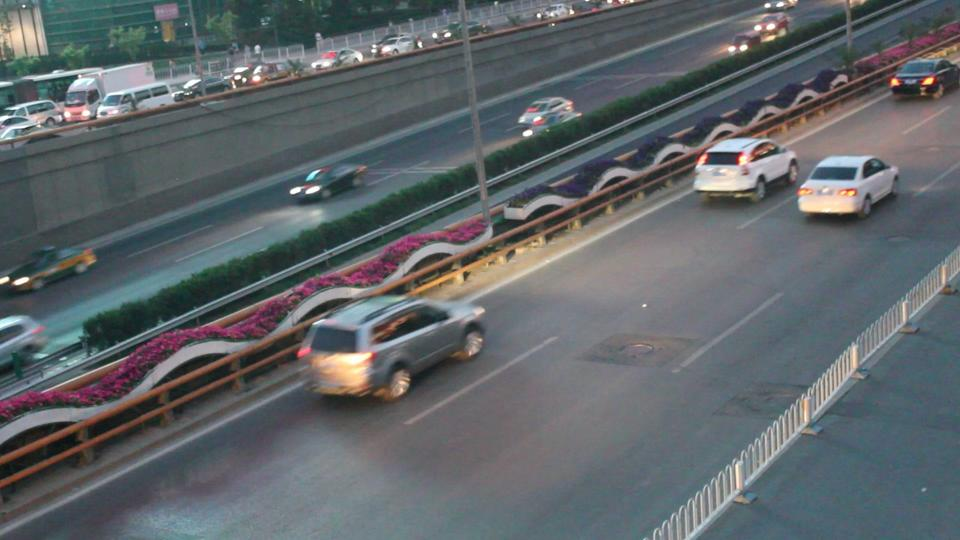bus: (0, 68, 104, 112)
car: (298, 295, 488, 403), (692, 136, 801, 204), (796, 155, 899, 220), (0, 245, 99, 295), (288, 163, 369, 205), (94, 81, 179, 118), (0, 314, 49, 375), (888, 58, 959, 100), (516, 97, 582, 137), (0, 90, 65, 128), (731, 13, 791, 51), (228, 61, 300, 88), (424, 22, 485, 46), (372, 35, 422, 58), (311, 48, 363, 70), (181, 76, 232, 98), (531, 2, 581, 22), (0, 115, 37, 138), (763, 0, 799, 11)
